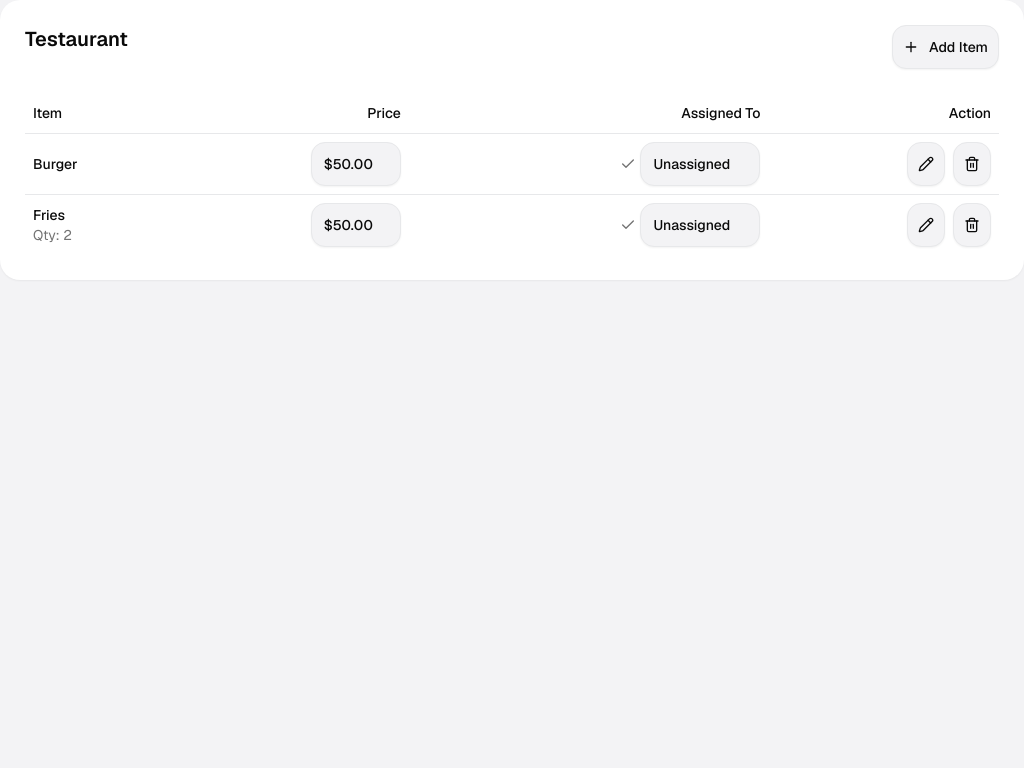
Scenario: ItemAssignment › Add Item › opens add item dialog when Add Item button is clicked
Click the button "Add Item": click(946, 47) [892,25,999,69]
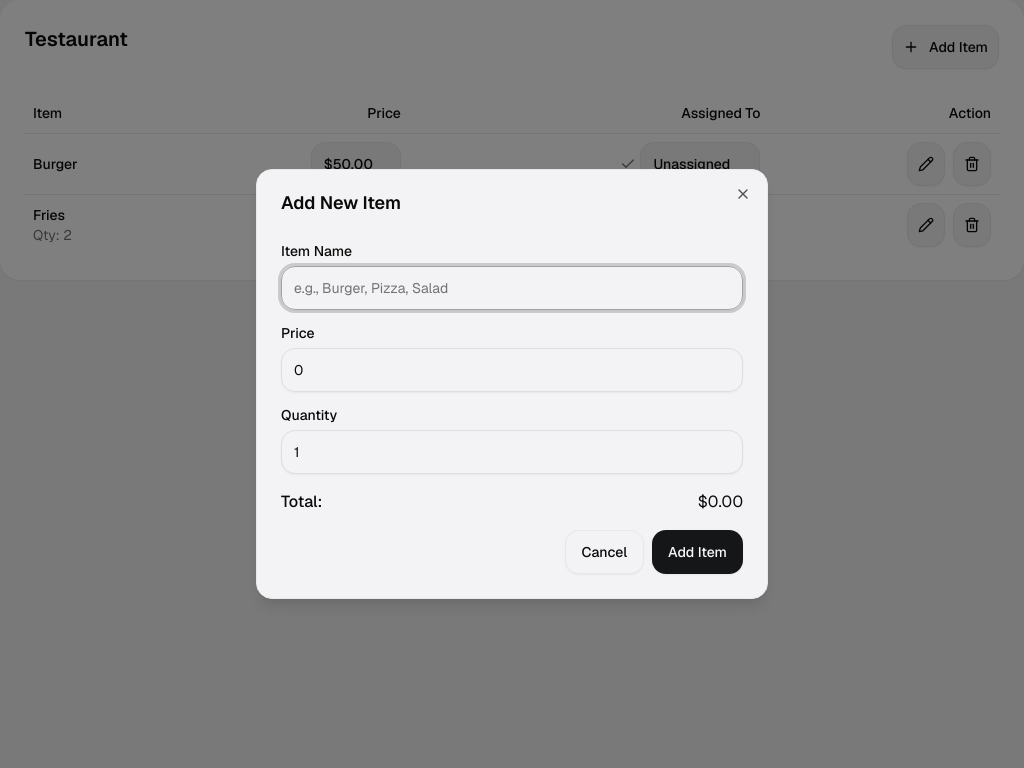
Expected: the heading "Add New Item" is shown, [281,191,401,214]
